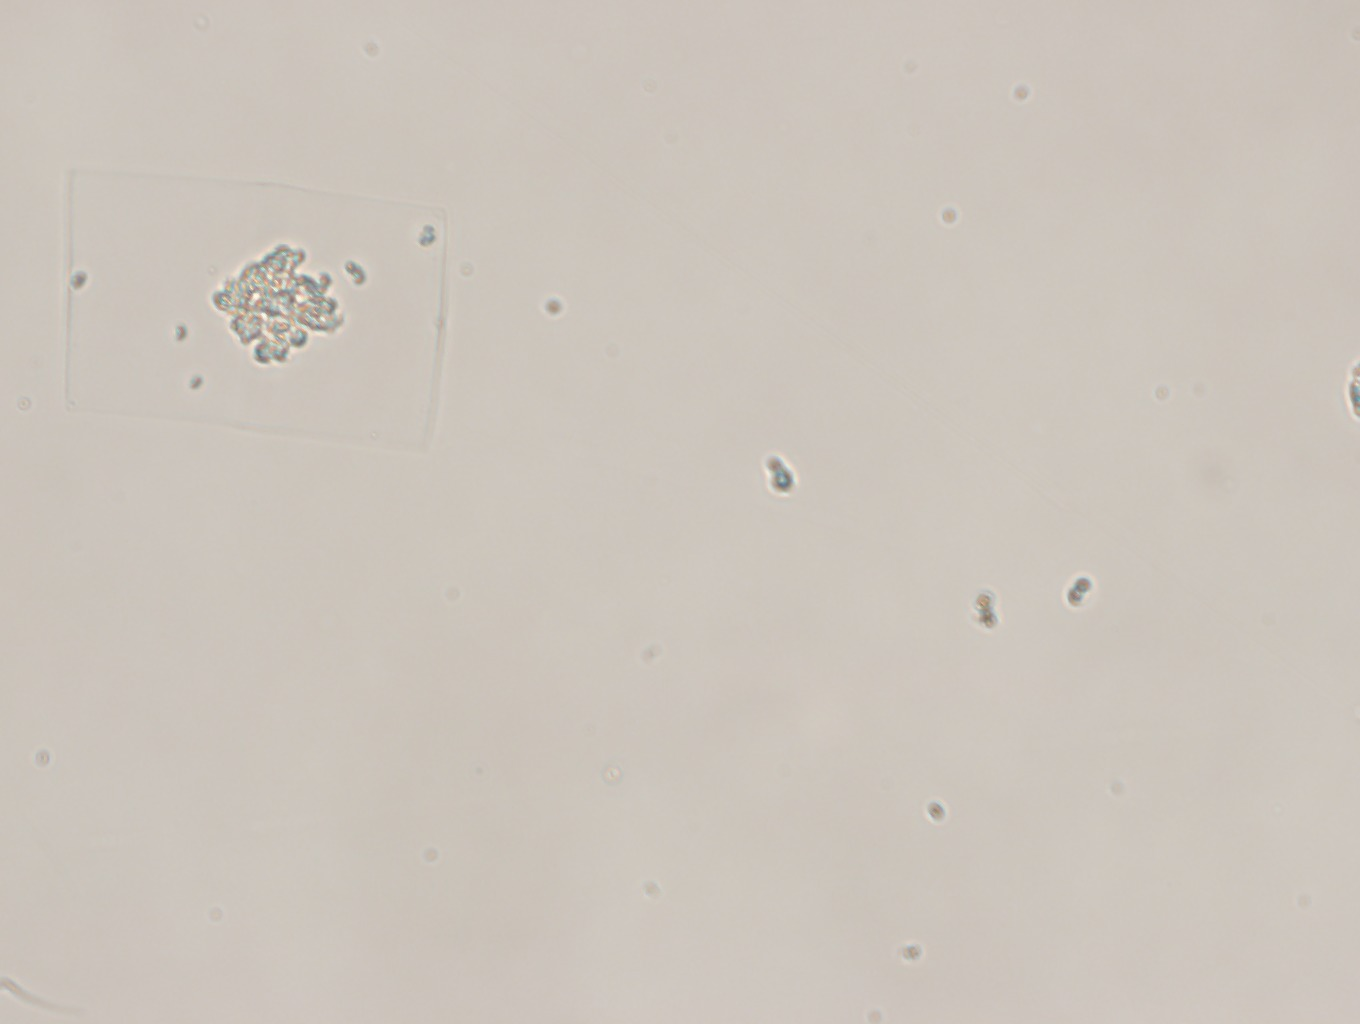helicotheca: (48, 158, 452, 464)
